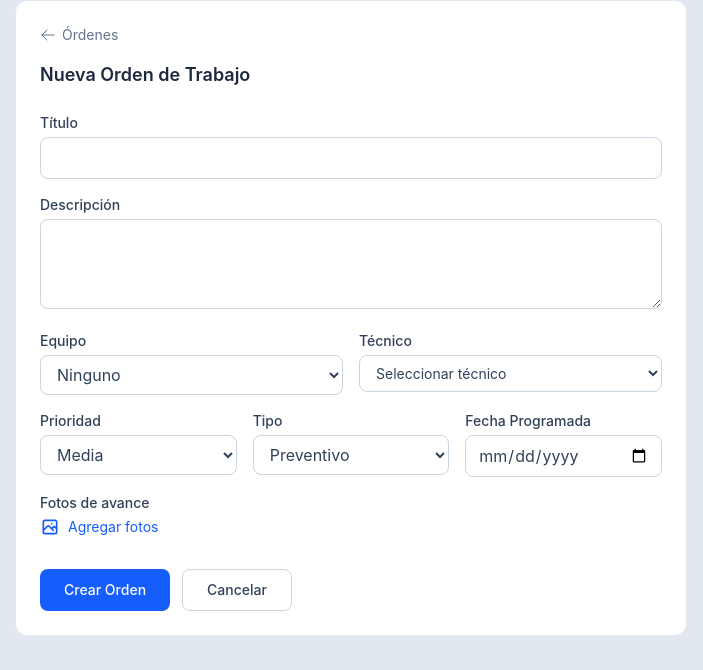
WorkOrderForm page › shows error when mutation fails
Type "Test" into the field at (351, 158), box [40,137,662,179]
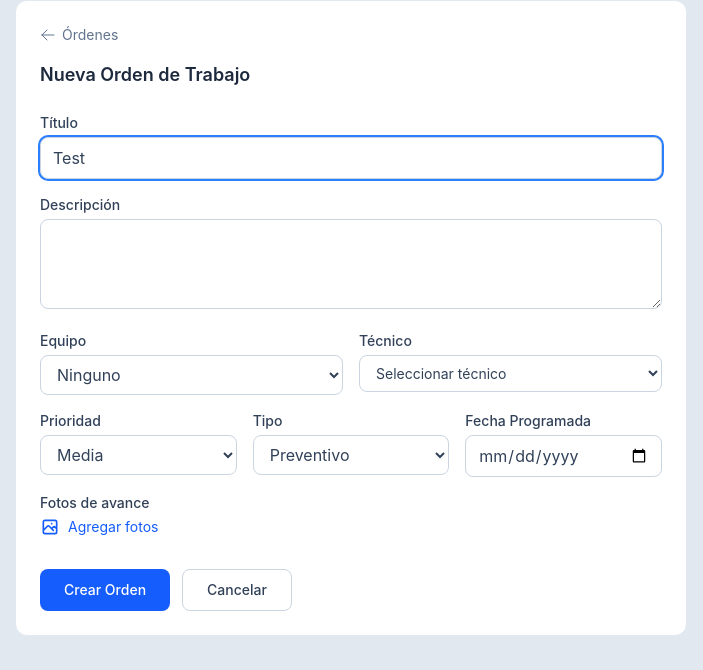
Select "Carlos" in the dropdown labelled "Técnico" at (510, 374), box [359,355,662,392]
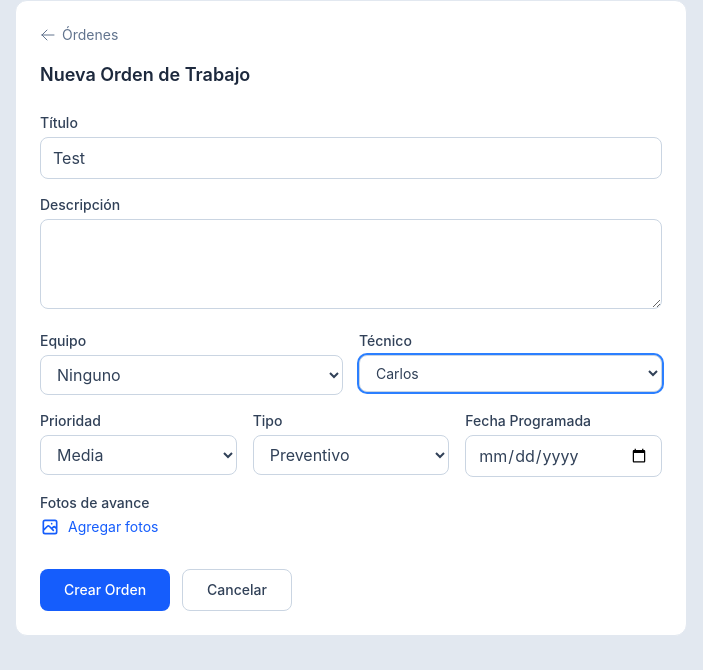
Type "2026-06-15" into the date field labelled "Fecha Programada" at (564, 456), box [465,435,662,477]
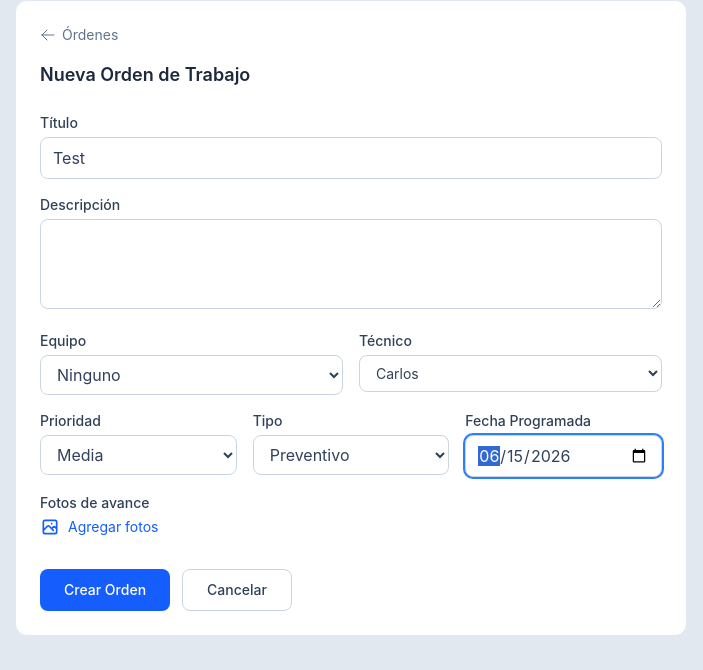
Click the button "Crear Orden" at (105, 590), box [40,569,170,611]
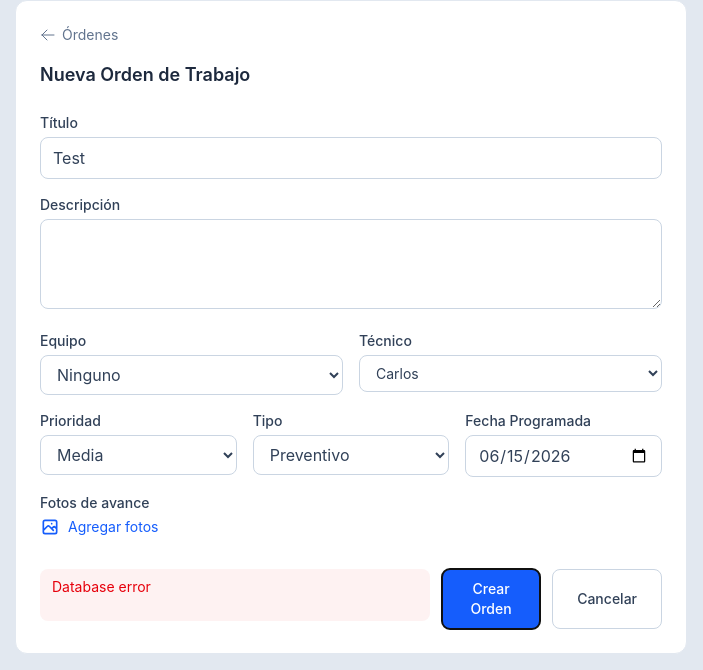
Expected: the text "Database error" is shown, [40,569,430,621]
